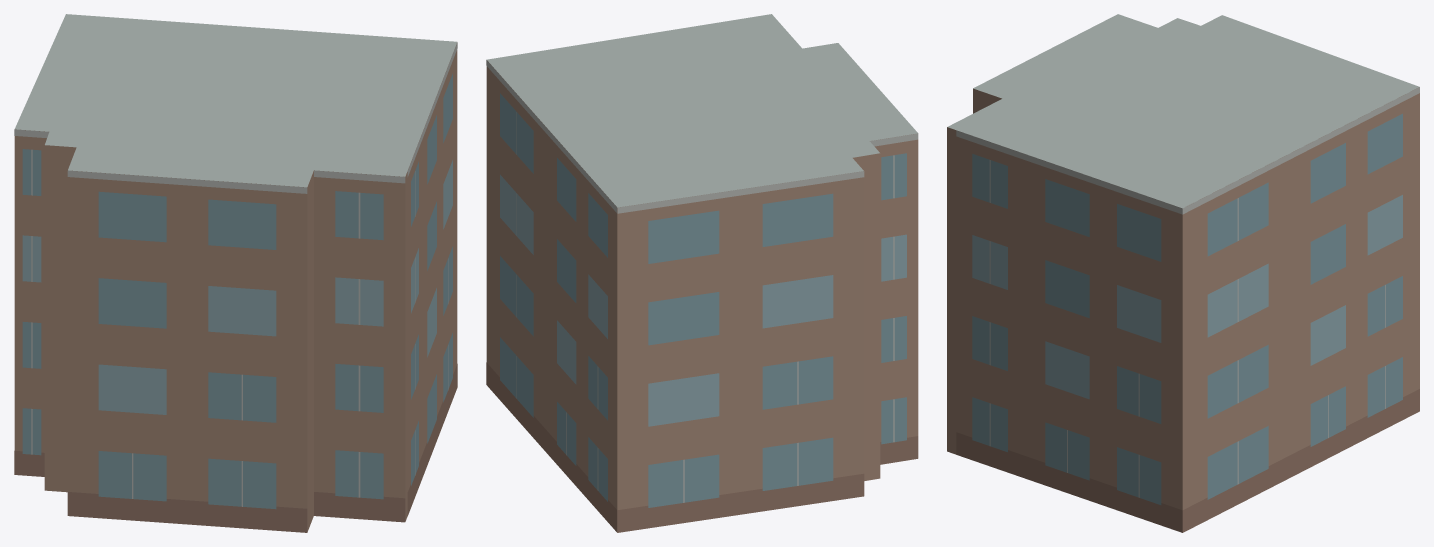
File: survey-upis-32703296.glb
The picture shows the model from 3 angles, left to right: view 1: azimuth 30°, elevation 25°; view 2: azimuth 150°, elevation 25°; view 3: azimuth 270°, elevation 25°; orthographic projection. The views are drawn at different scales.
Visible parts, largest first — view 1: survey-upis-32703296.tmp; view 2: survey-upis-32703296.tmp; view 3: survey-upis-32703296.tmp.
Boxes of the visible parts, x1,y1,x2,y2 form: survey-upis-32703296.tmp: (14,14,457,532); survey-upis-32703296.tmp: (486,14,918,532); survey-upis-32703296.tmp: (947,14,1419,532).
Bounding box in the file's own units: 16.45 × 12.8 × 16.91.
